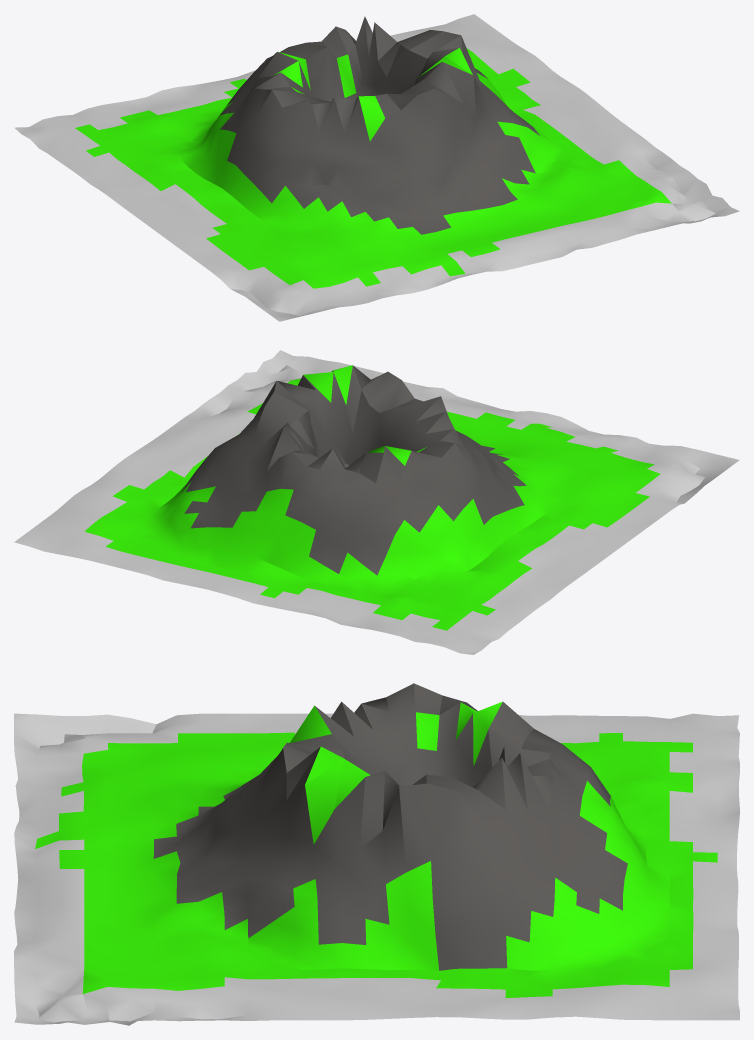
The model's file is island.obj.
The picture shows the model from 3 angles, top to bottom: view 1: azimuth 30°, elevation 25°; view 2: azimuth 150°, elevation 25°; view 3: azimuth 270°, elevation 25°; orthographic projection. The views are drawn at different scales.
Parts seen in each view (by area): view 1: Island; view 2: Island; view 3: Island.
Boxes of the visible parts, bbox=[...] form: Island: bbox=[14, 14, 739, 321]; Island: bbox=[14, 350, 739, 654]; Island: bbox=[14, 683, 739, 1025].
Size of the model in its own units: 20.85 by 5.31 by 20.84.
